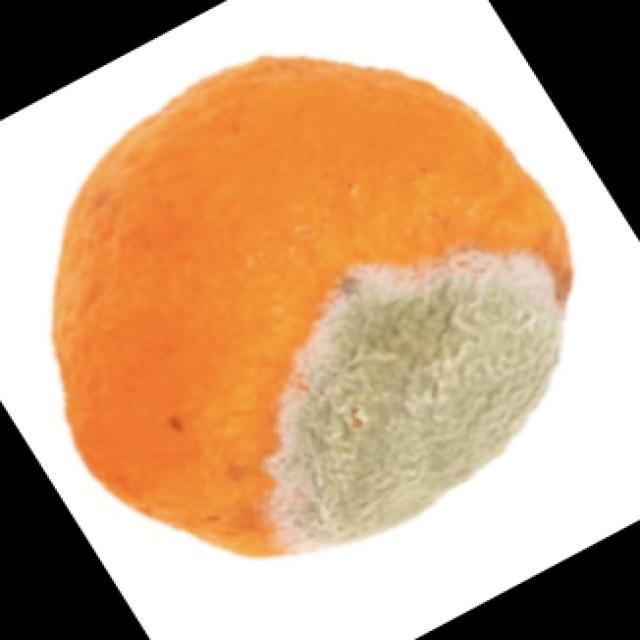sedikit-busuk: (53, 57, 571, 555)
